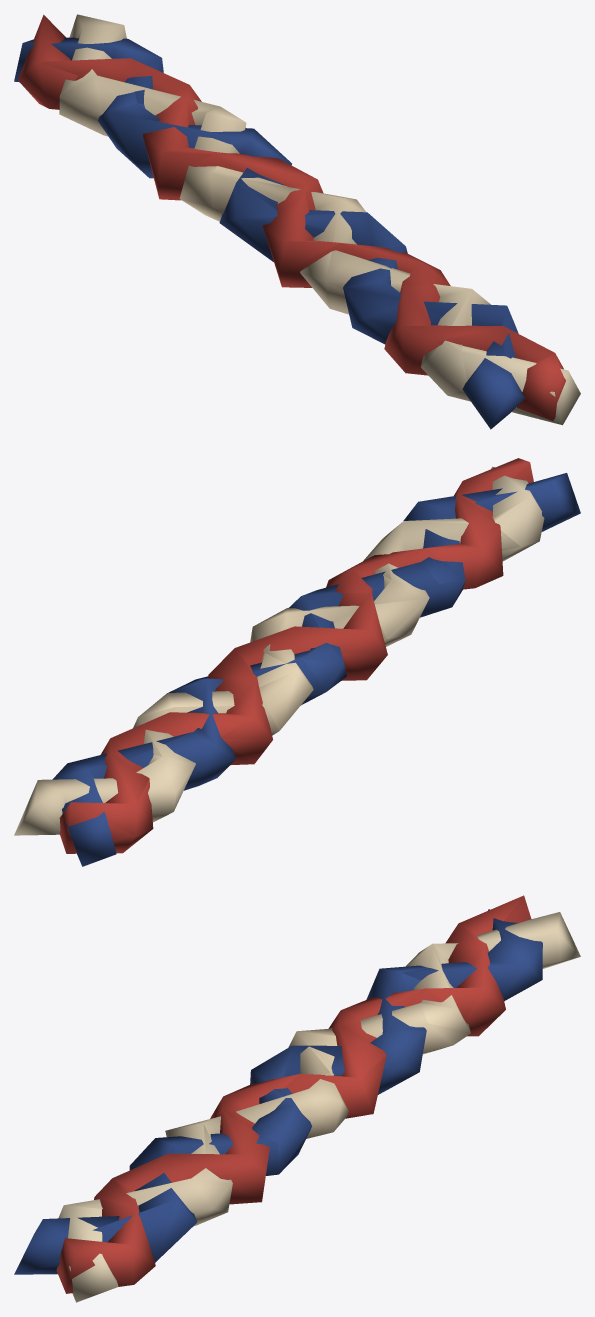
The model's file is den_rug_binding_lod2.glb.
3 views of the same model, one above another, from view 1: azimuth 30°, elevation 25°; view 2: azimuth 150°, elevation 25°; view 3: azimuth 330°, elevation 25° (orthographic). The views are drawn at different scales.
Parts seen in each view (by area): view 1: den_rug_binding.001; view 2: den_rug_binding.001; view 3: den_rug_binding.001.
Boxes of the visible parts, bbox=[...] form: den_rug_binding.001: bbox=[14, 14, 580, 429]; den_rug_binding.001: bbox=[14, 458, 580, 866]; den_rug_binding.001: bbox=[14, 895, 580, 1302].
Bounding box in the file's own units: 1.62 × 0.8875 × 12.28.
